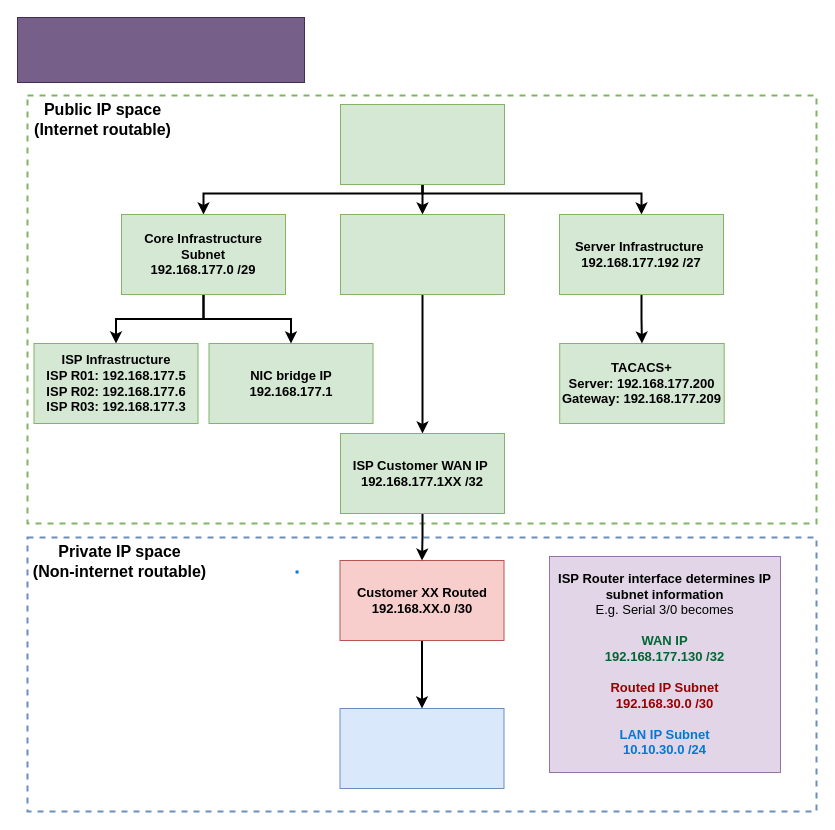
Some shapes in this 835 by 830 pixel diagram are drawn without their labels. The centre of each missing label's shape, as x and y in pixels:
Customer XX NAT / LAN 10.10.XX.0 /24: the point at 421,748
IP Allocation & logic: the point at 160,49
ISP Customer Subnet 192.168.177.128 /26: the point at 422,254
VMWare Virtual IP Subnet 192.168.177.0 /24: the point at 422,144
